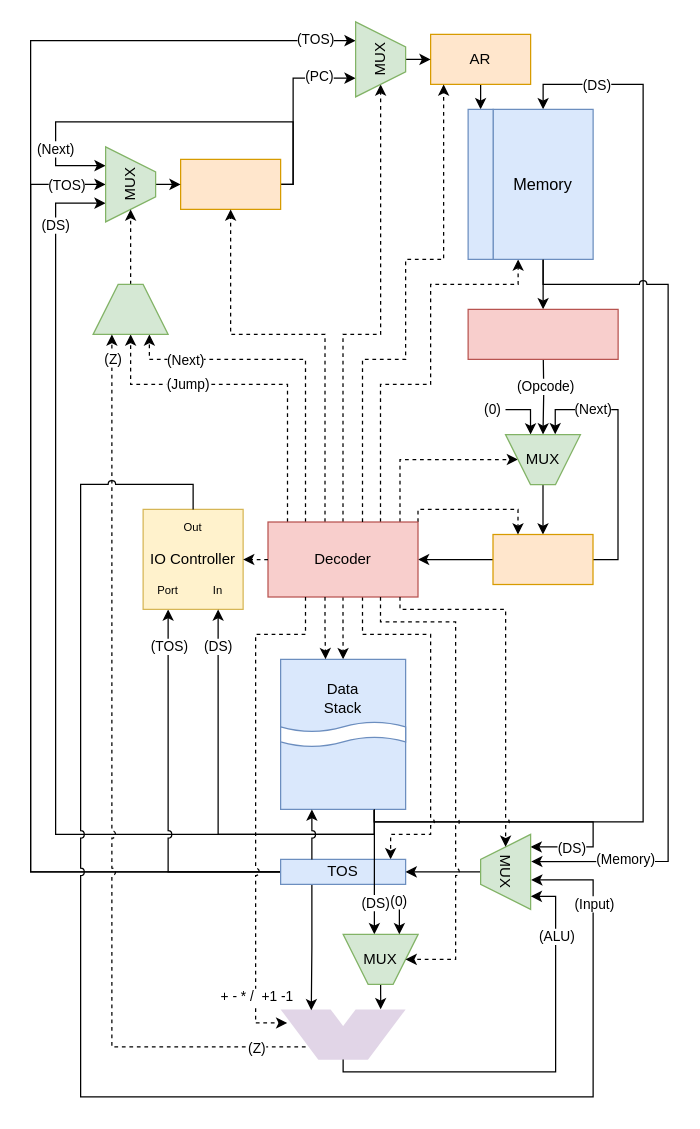
Image size: 700x1129. Some labels were removed from this diagram. Each missing label, with the centre of its shape:
Address: (x=480, y=183)
ALU: (x=324, y=1034)
ENC: (x=130, y=308)
mPC: (x=542, y=558)
opcode -> mPC: (x=542, y=333)
Program Counter: (x=230, y=183)
